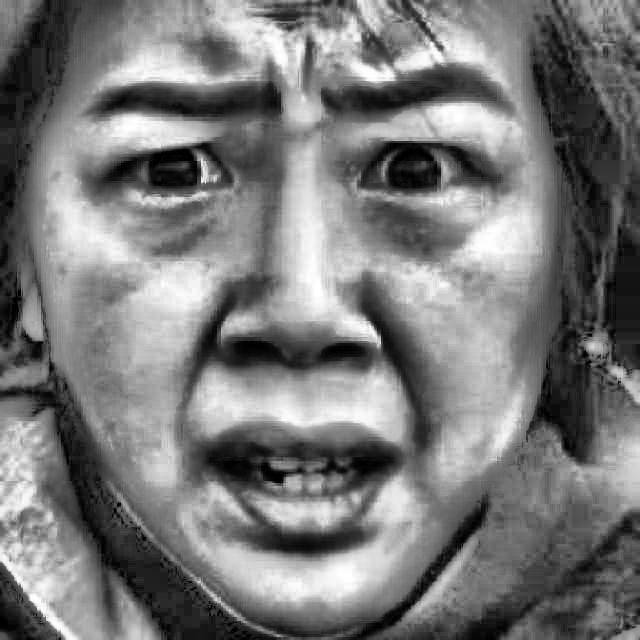angry: (33, 13, 616, 590)
